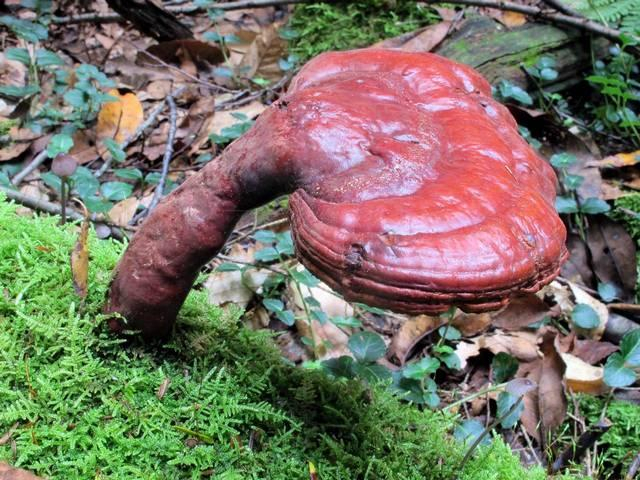poisonous_mushroom: (100, 46, 570, 347)
